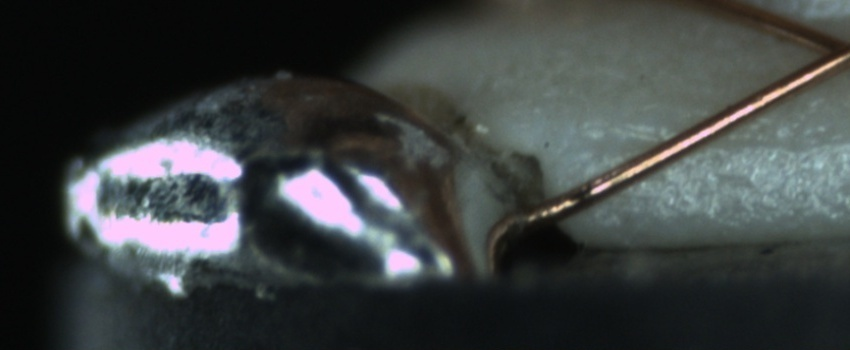CL: (795, 18, 850, 81)
DL: (607, 108, 850, 174)
